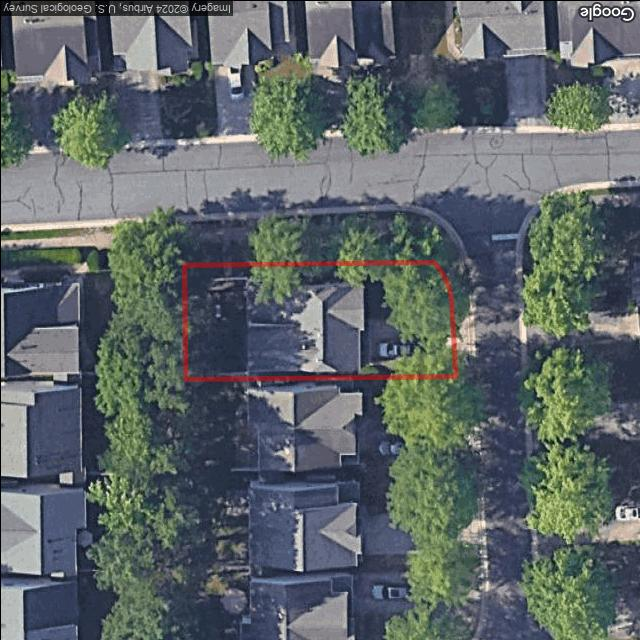Driveway: (361, 320, 453, 365), (445, 336, 451, 346)
Extra-Driveway: (452, 312, 472, 359)
Extra-Lawn: (179, 234, 467, 320), (182, 219, 252, 228), (454, 358, 473, 376)
Extra-Sidewalk: (180, 219, 449, 246)
House: (248, 283, 364, 372)
Lawn: (183, 261, 456, 378)
